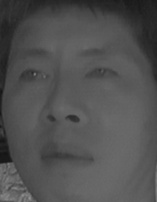eye: (83, 64, 121, 85), (18, 66, 50, 85)
mouth: (39, 137, 96, 171)
